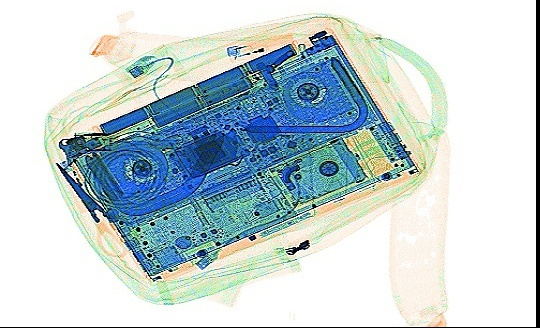lighter: (224, 31, 293, 59), (58, 157, 93, 212)
scissors: (54, 162, 139, 258)
